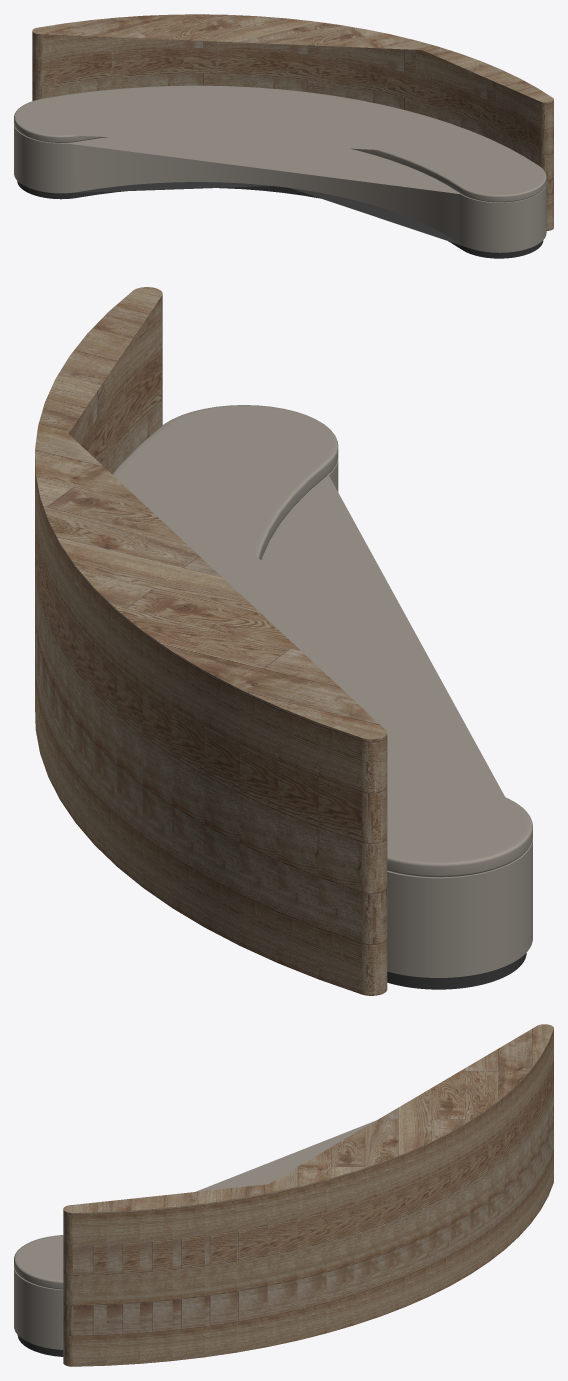
The picture shows the model from 3 angles, top to bottom: view 1: azimuth 30°, elevation 25°; view 2: azimuth 150°, elevation 25°; view 3: azimuth 270°, elevation 25°; orthographic projection. The views are drawn at different scales.
Visible parts, largest first — view 1: Group4, Group2, Group5; view 2: Group4, Group2, Group5; view 3: Group4, Group2, Group5.
Boxes of the visible parts, <box> form: Group4: <box>32,14,553,230</box>; Group2: <box>14,85,546,202</box>; Group5: <box>14,124,546,258</box>; Group4: <box>35,287,387,995</box>; Group2: <box>112,405,532,877</box>; Group5: <box>272,458,532,989</box>; Group4: <box>63,1024,553,1366</box>; Group2: <box>14,1120,375,1289</box>; Group5: <box>14,1267,63,1356</box>.
Bounding box in the file's own units: 2666 × 900 × 2865.
